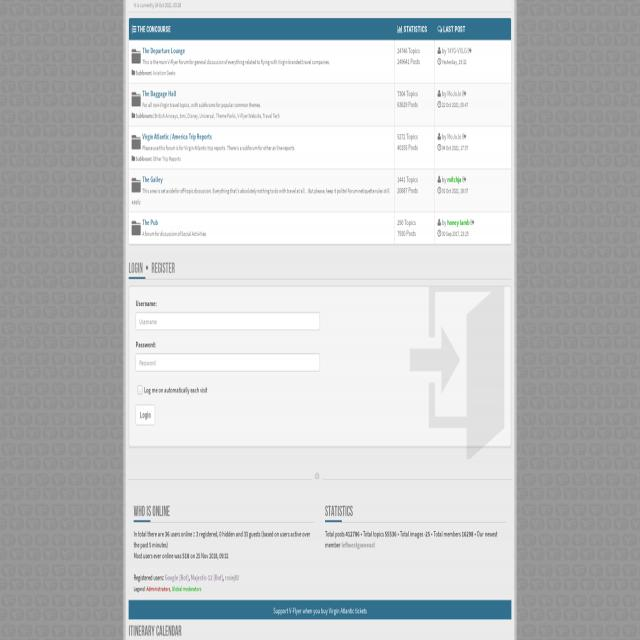button: (136, 405, 155, 426)
field: (136, 312, 320, 330), (136, 354, 320, 372), (137, 385, 143, 395)
